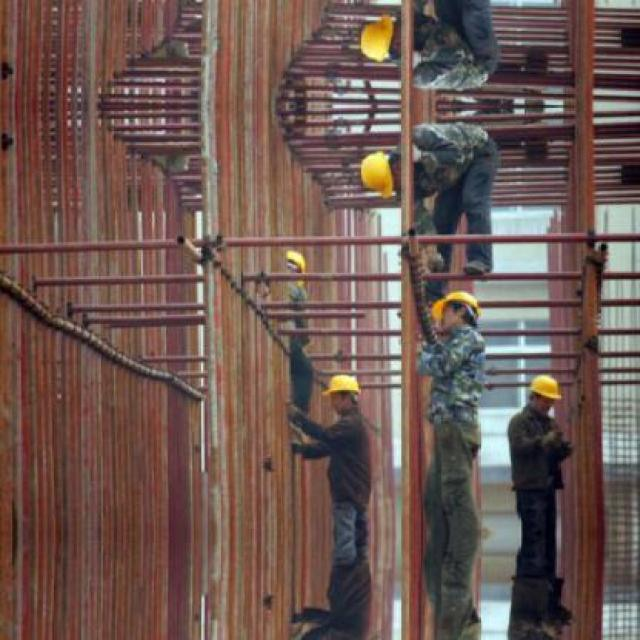helmet: (348, 142, 398, 203), (424, 284, 482, 336), (520, 370, 565, 410), (276, 239, 312, 288), (317, 367, 357, 407)
